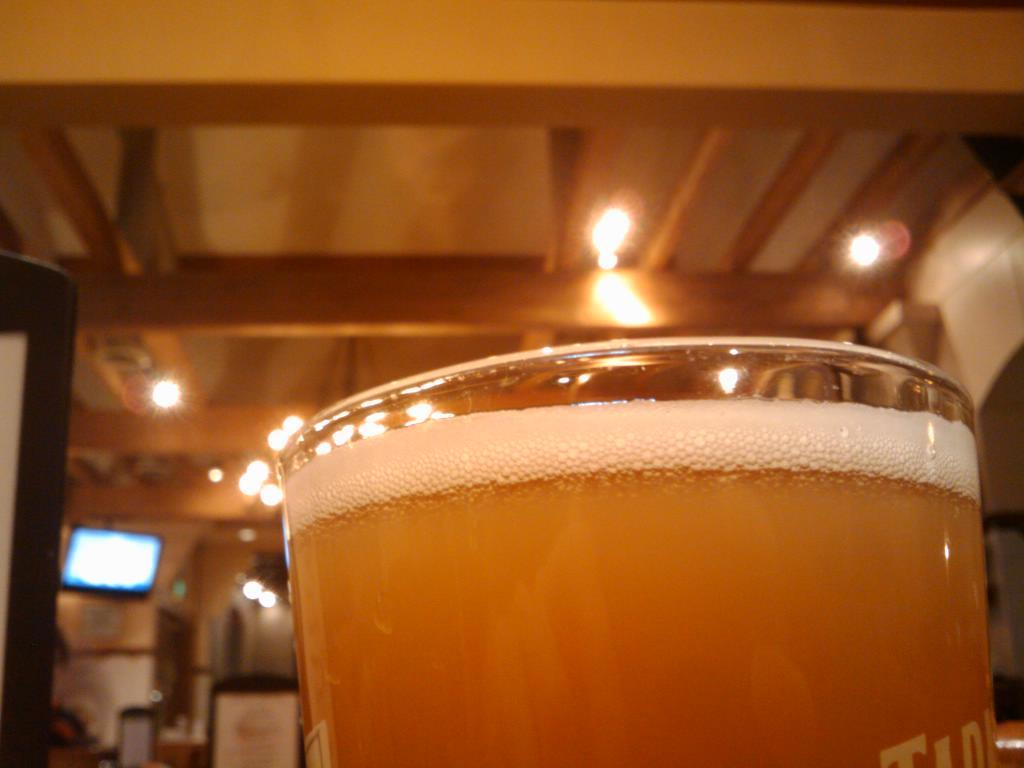Beer: (268, 331, 1002, 765)
